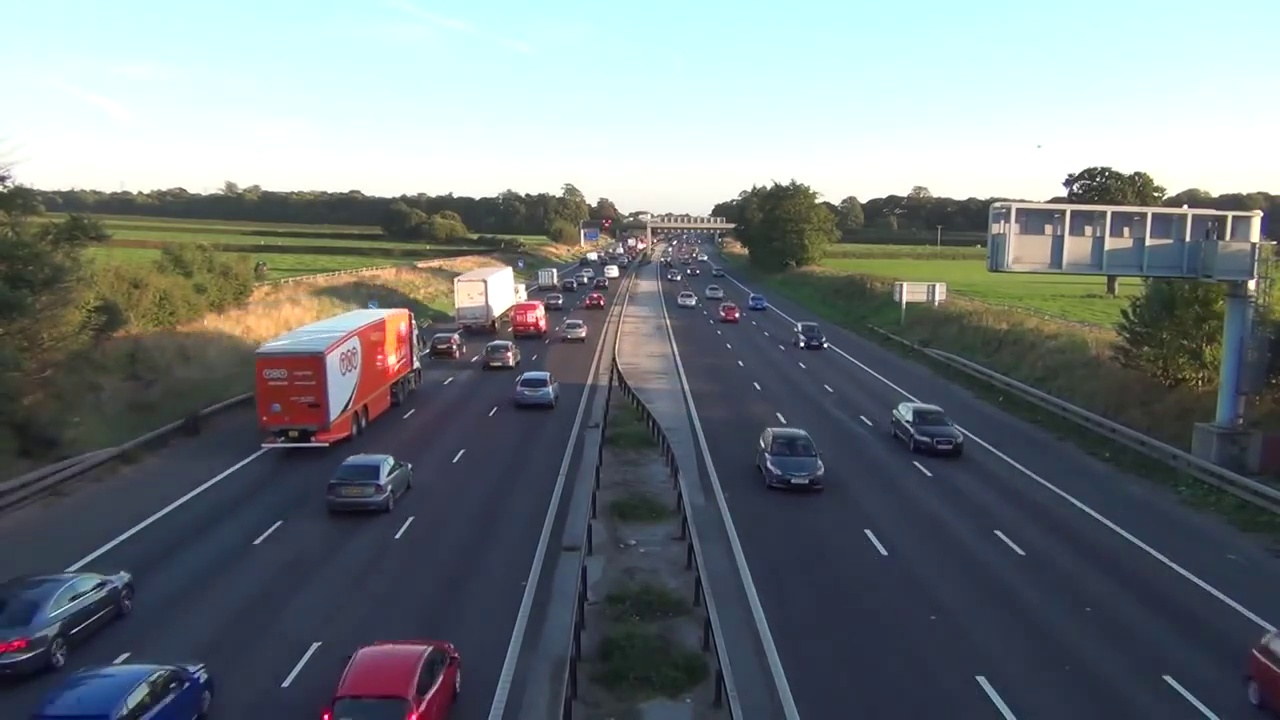bus: (0, 570, 142, 678), (325, 635, 469, 720), (10, 667, 224, 720), (326, 452, 416, 516), (753, 426, 830, 499), (892, 401, 966, 459), (1243, 622, 1280, 719), (514, 370, 560, 405), (790, 318, 828, 352), (483, 340, 523, 371), (429, 332, 467, 358), (559, 319, 588, 344), (717, 303, 743, 324), (543, 294, 564, 309), (678, 292, 699, 307), (585, 293, 605, 308), (749, 294, 766, 310)
car: (253, 308, 425, 455), (453, 267, 516, 330)
lorry: (513, 283, 531, 304)
minibus: (512, 303, 548, 338)
